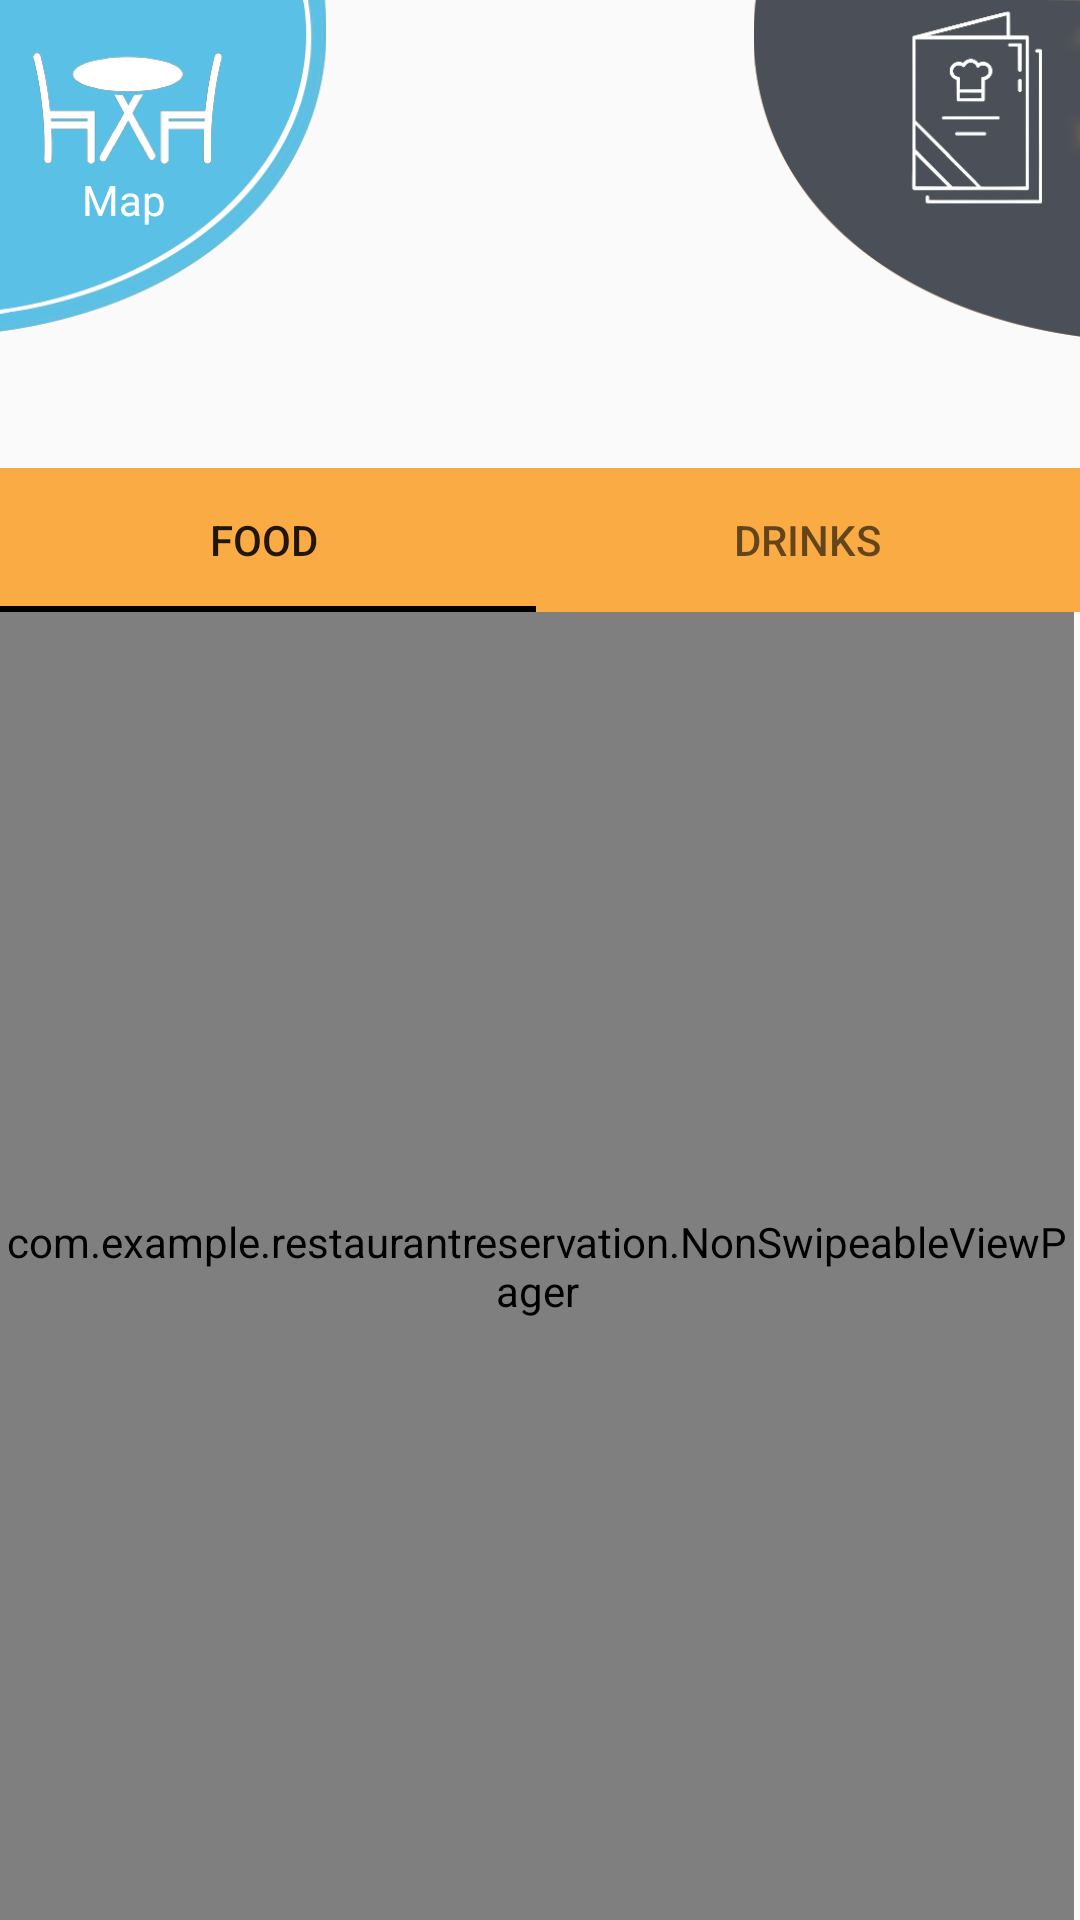

Screen size 1080w x 1920h. Icon name, then its box in pixels as (x1, y1, x2, y2):
menubtninactive: (754, 0, 1080, 337)
